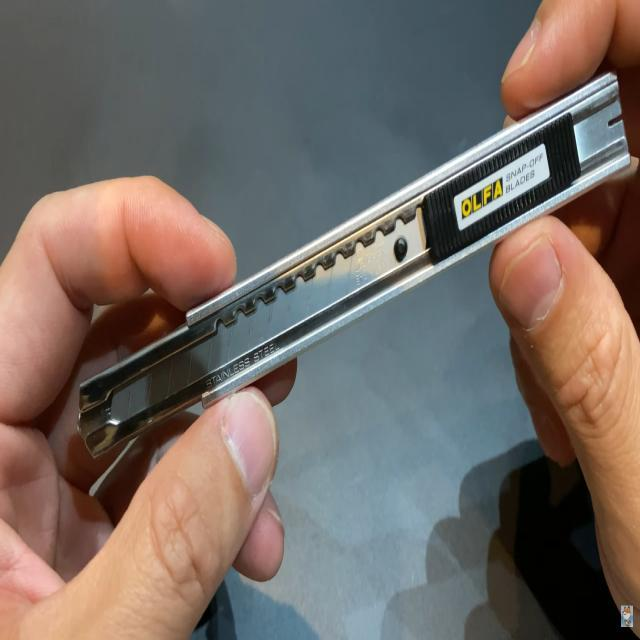cutter: (53, 11, 640, 477)
